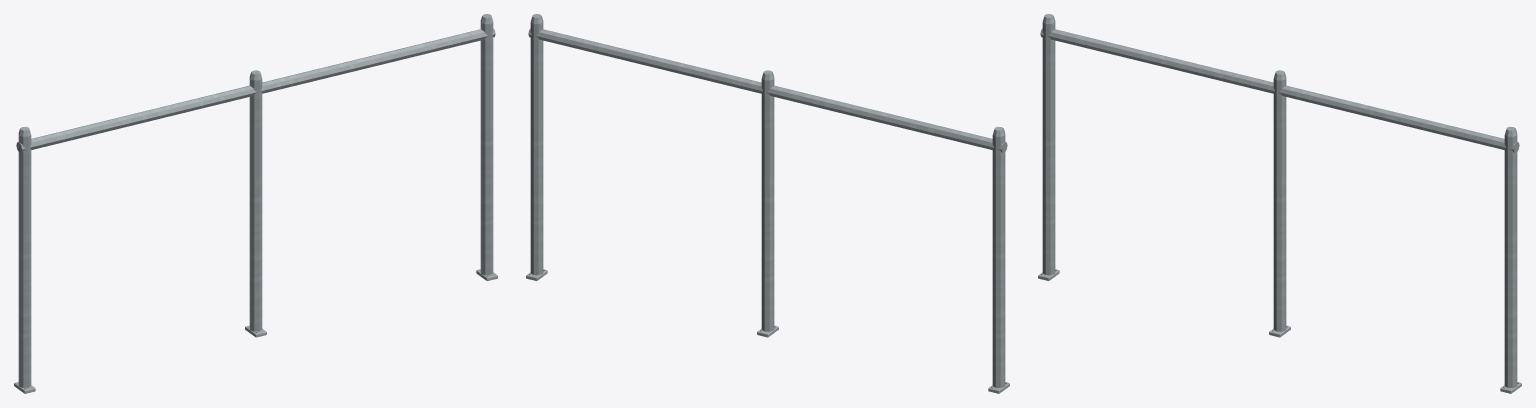
Rendered from pool_guardrail_straight.glb.
3 views of the same model, side by side, from view 1: azimuth 30°, elevation 25°; view 2: azimuth 150°, elevation 25°; view 3: azimuth 330°, elevation 25° (orthographic).
Parts seen in each view (by area): view 1: core_pool_guardrail_straight; view 2: core_pool_guardrail_straight; view 3: core_pool_guardrail_straight.
Part boxes in pixels (x1=…): core_pool_guardrail_straight: x1=14, y1=14, x2=497, y2=393; core_pool_guardrail_straight: x1=526, y1=14, x2=1009, y2=393; core_pool_guardrail_straight: x1=1038, y1=14, x2=1521, y2=393.
Bounding box in the file's own units: 2 × 1.05 × 0.08.
1 material, 1 textured.
